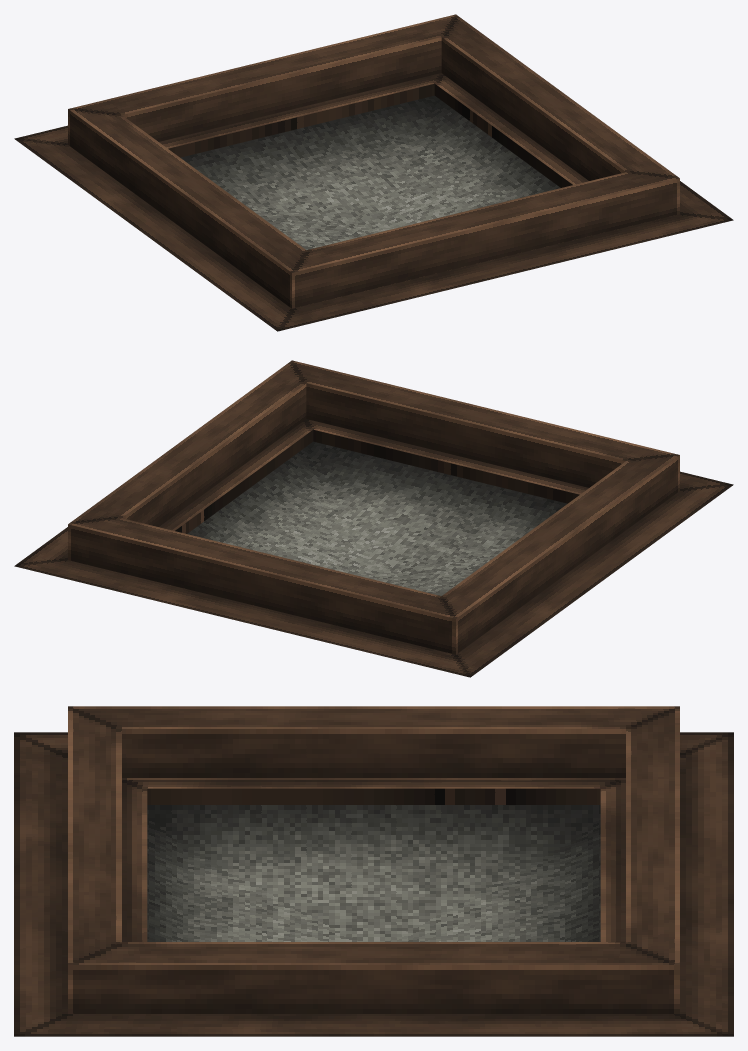
Rendered from floor_pit.glb.
The picture shows the model from 3 angles, top to bottom: view 1: azimuth 30°, elevation 25°; view 2: azimuth 150°, elevation 25°; view 3: azimuth 270°, elevation 25°; orthographic projection. The views are drawn at different scales.
Visible parts, largest first — view 1: floor_pit; view 2: floor_pit; view 3: floor_pit.
Part boxes in pixels (box(x1,y1,x2,y2)): floor_pit: box(14, 14, 733, 331); floor_pit: box(14, 360, 733, 677); floor_pit: box(14, 706, 733, 1036).
Size of the model in its own units: 2 by 0.35 by 2.
1 material, 1 textured.
